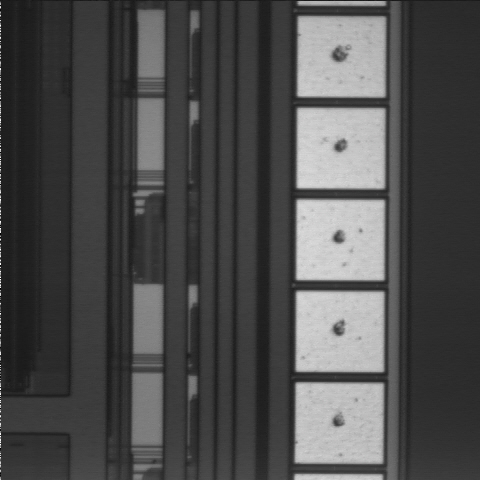pad: (295, 383, 383, 463), (297, 108, 384, 188), (297, 200, 384, 280), (296, 292, 383, 372), (298, 18, 384, 97)
